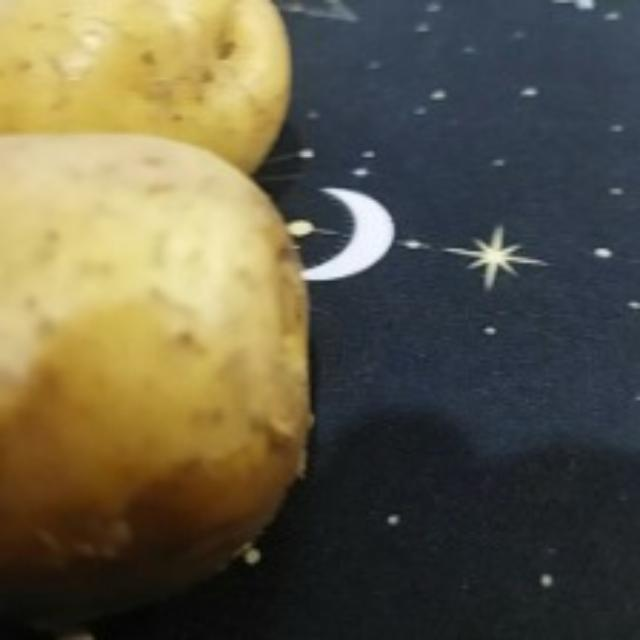Damaged potato: (2, 121, 324, 615)
Potato: (0, 3, 294, 176)
